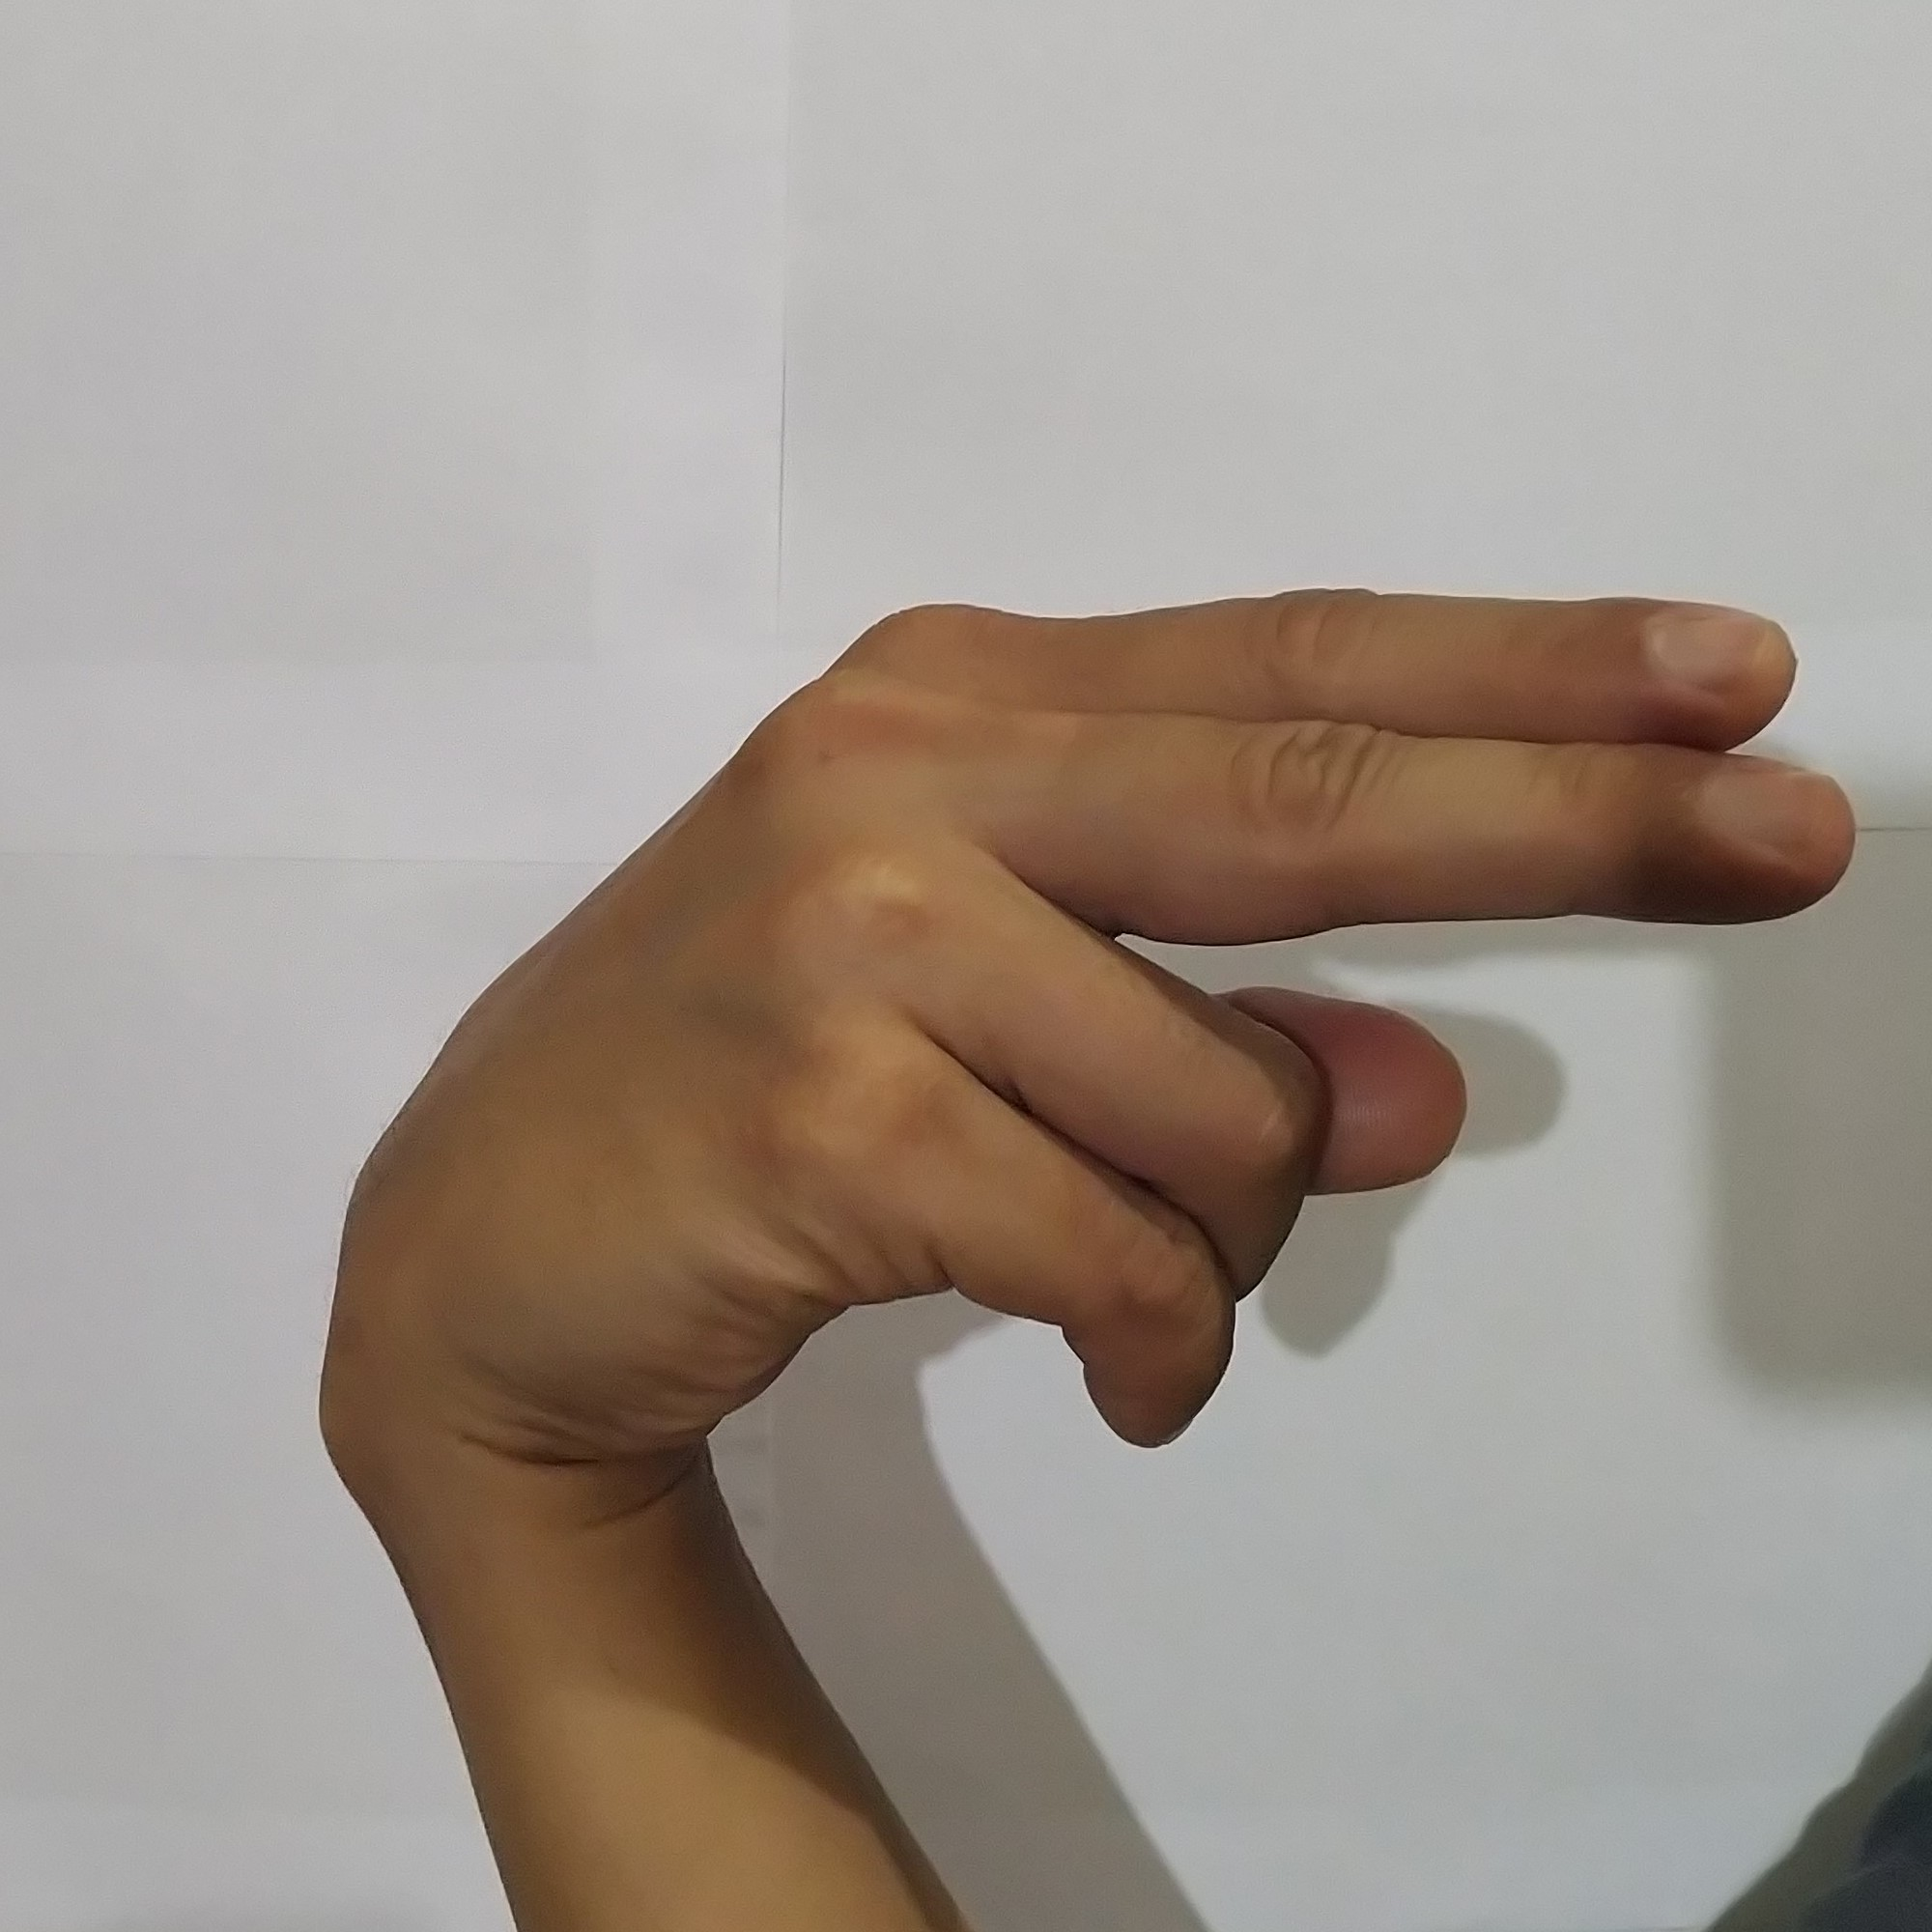H: (322, 561, 1881, 1461)
